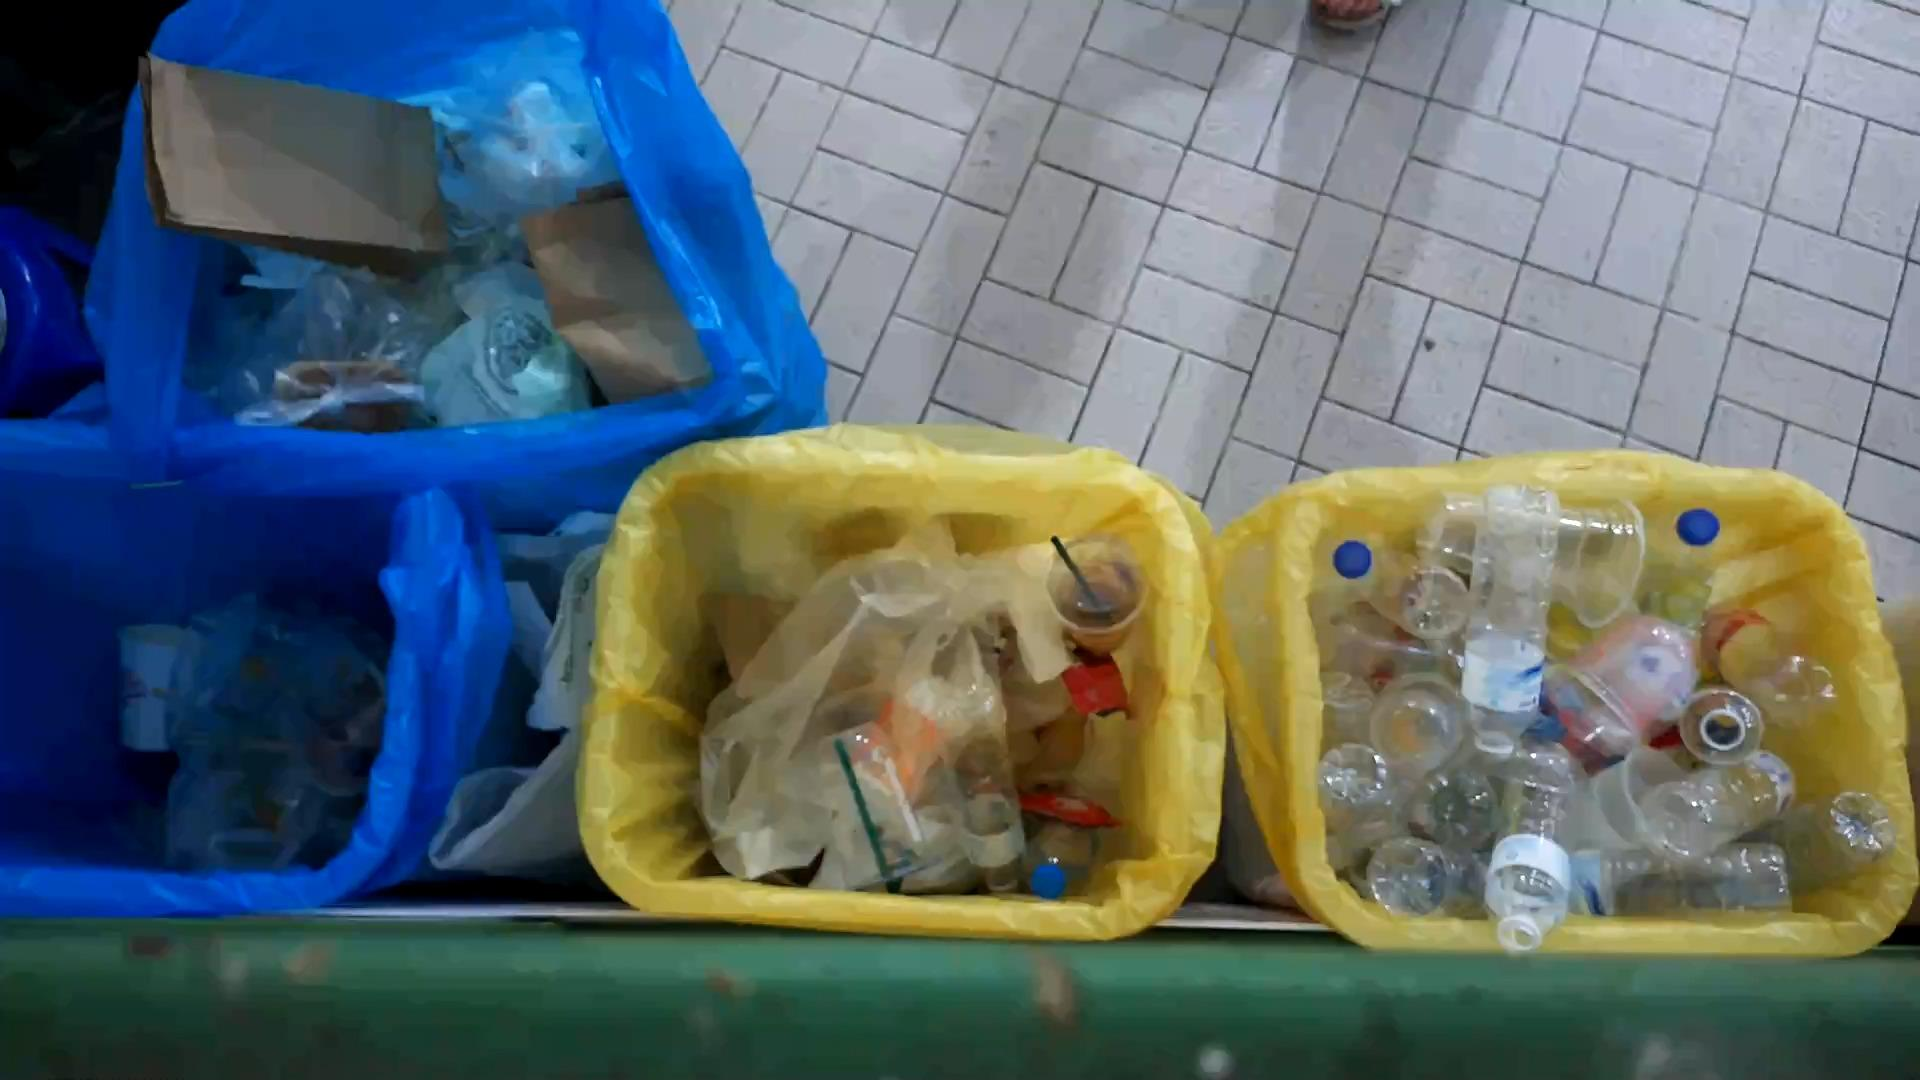filled plastic bag: (222, 270, 437, 457), (431, 26, 639, 217), (414, 258, 600, 433), (168, 750, 323, 872)
paper bag: (124, 48, 457, 282), (520, 182, 723, 404)
plastic bag: (694, 546, 987, 882)
plastic bottle: (1454, 466, 1551, 758), (1553, 835, 1804, 940), (1478, 729, 1585, 959), (926, 690, 1037, 900), (1629, 741, 1806, 867), (1698, 598, 1846, 732), (1763, 774, 1899, 889), (1306, 738, 1420, 872), (1366, 828, 1487, 927), (1024, 818, 1101, 900)
plastic cup: (1426, 476, 1648, 629), (1559, 604, 1701, 759), (809, 716, 933, 892), (1041, 531, 1155, 651)
snack packaging: (1014, 767, 1122, 840), (1054, 648, 1145, 729)
zero waste cup: (106, 614, 194, 761)
